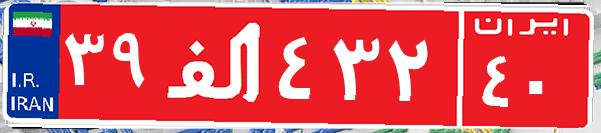0: (525, 38, 570, 115)
2: (385, 28, 445, 110)
3: (330, 28, 385, 110), (57, 26, 110, 107)
4: (273, 28, 330, 110), (475, 38, 525, 113)
9: (110, 28, 158, 105)
الف: (158, 15, 273, 115)
